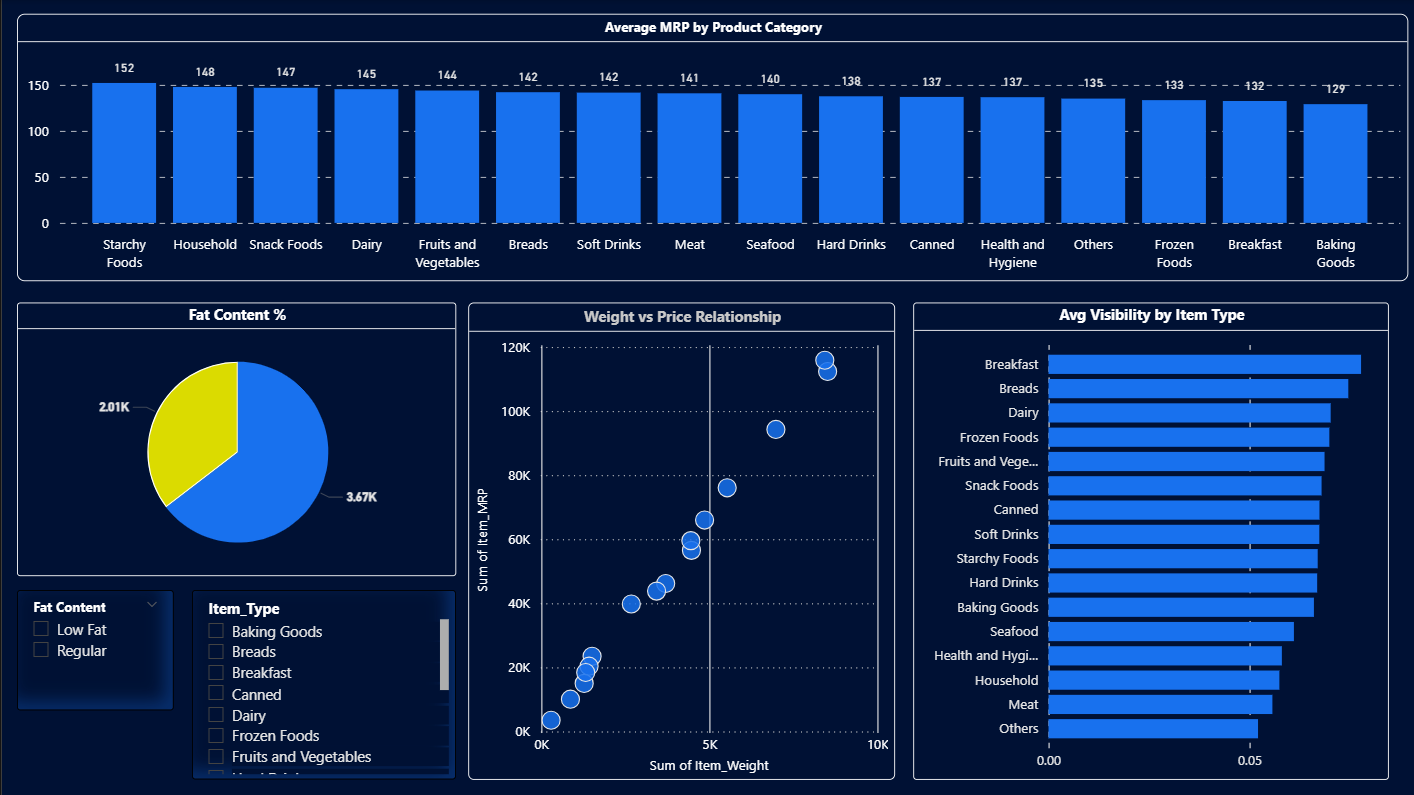

The page's visual inventory and layout, read from the dashboard file:
{"tool":"powerbi","page":{"name":"Page 2","canvas":[1280,720],"ordinal":1},"visuals":[{"type":"clusteredColumnChart","title":"Average MRP by Product Category","fields":{"Category":["Test.Item_Type"],"Y":["Avg(Test.Item_MRP)"]},"box":[13.7,12.3,1257,241.5],"z":0},{"type":"barChart","title":"Avg Visibility by Item Type","fields":{"Category":["Test.Item_Type"],"Y":["Avg(Test.Item_Visibility)"]},"box":[823.3,273.1,429.5,430.9],"z":1000},{"type":"pieChart","title":"Fat Content %","fields":{"Category":["Test.Item_Fat_Content"],"Y":["CountNonNull(Test.Item_Identifier)"]},"box":[13.7,273.1,396.6,247],"z":2000},{"type":"scatterChart","title":"Weight vs Price Relationship","fields":{"X":["Sum(Test.Item_Weight)"],"Y":["Sum(Test.Item_MRP)"],"Category":["Test.Item_Type"]},"box":[421.3,273.1,385.6,430.9],"z":3000},{"type":"slicer","fields":{"Values":["Test.Item_Fat_Content"]},"box":[13.7,532.4,141.3,108.4],"z":4000},{"type":"slicer","fields":{"Values":["Test.Item_Type"]},"box":[171.5,532.4,238.8,171.5],"z":5000}]}

Visuals, with their boxes in screenshot pixels (x1, y1, x2, y2), scaled from the page's 1280x720 canvas onto the 1414x795 screenshot:
"Average MRP by Product Category" clusteredColumnChart: <box>15,14,1404,280</box>
"Avg Visibility by Item Type" barChart: <box>909,302,1384,777</box>
"Fat Content %" pieChart: <box>15,302,453,574</box>
"Weight vs Price Relationship" scatterChart: <box>465,302,891,777</box>
slicer - Test.Item_Fat_Content: <box>15,588,171,708</box>
slicer - Test.Item_Type: <box>189,588,453,777</box>
